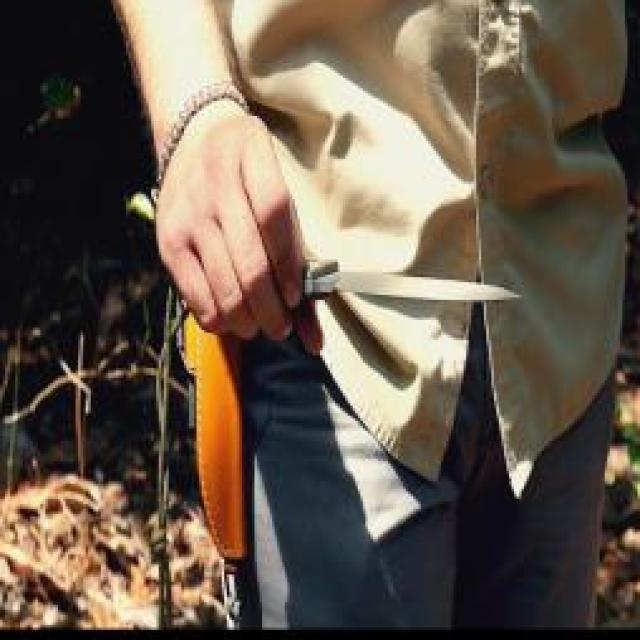knife: (176, 174, 532, 363)
